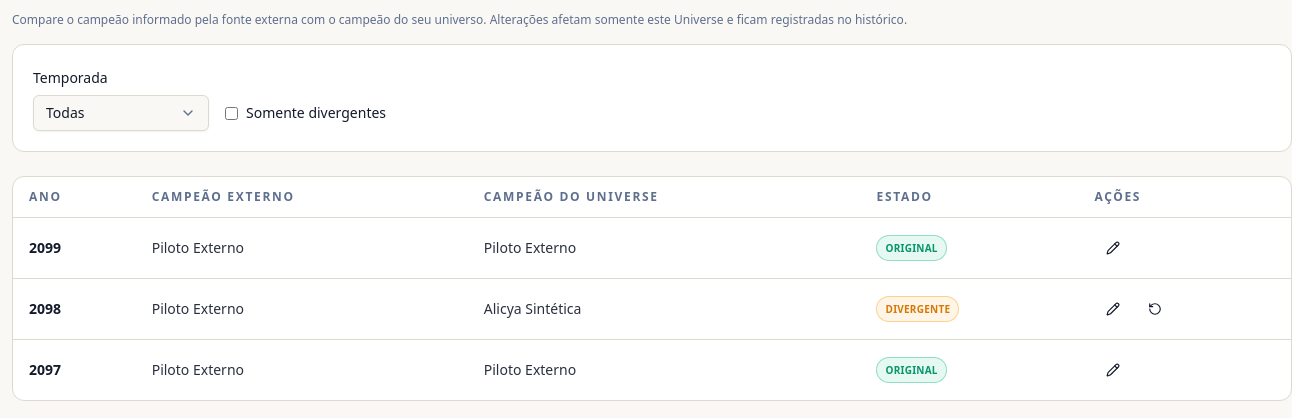
ChampionsPanel › 4) filtra por temporada e somente divergentes
The image size is (1292, 418).
Expected: the text "2099" is shown, [13,218,136,278]
Click the button named "Temporada" at (121, 113), box [33,95,209,131]
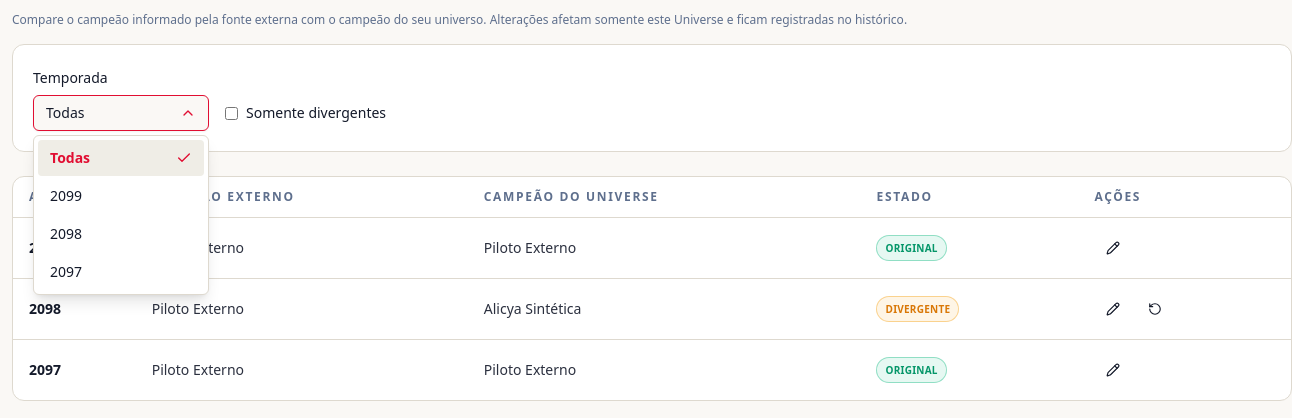
Click the option "2098" at (66, 234), box [50,224,82,243]
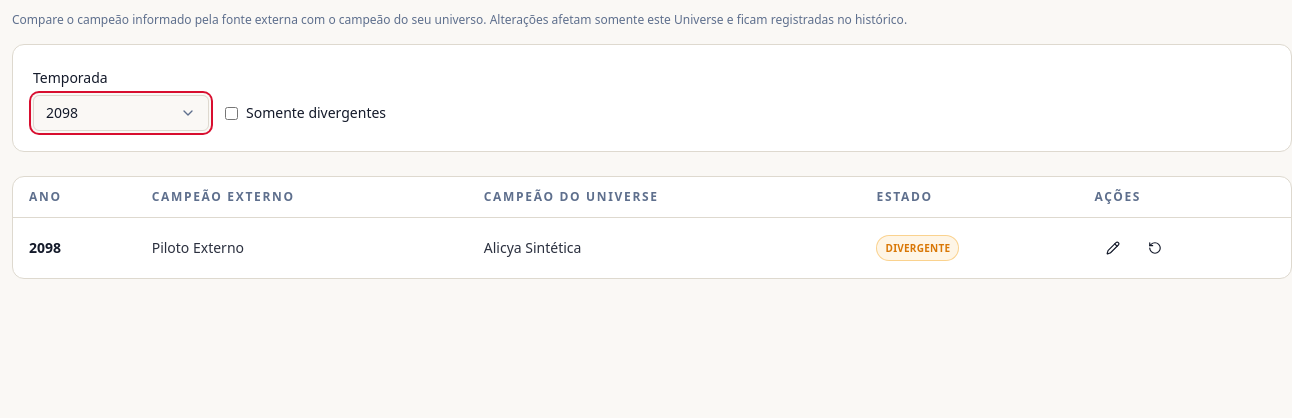
Now the option "2099" is gone
Now the text "2098" is shown, box [46,103,78,123]
Click the button named "Temporada" at (121, 113), box [33,95,209,131]
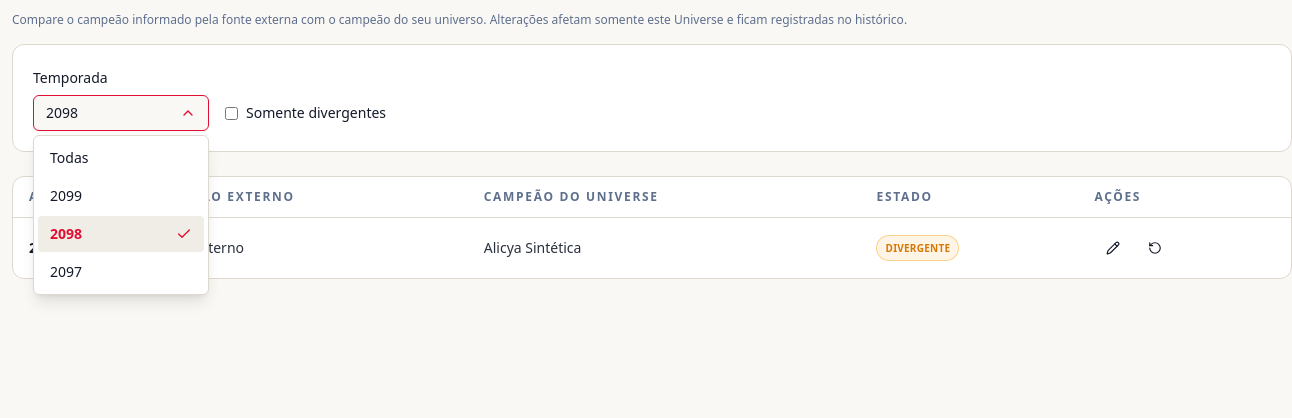
Click the option "Todas" at (69, 158), box [50,148,88,167]
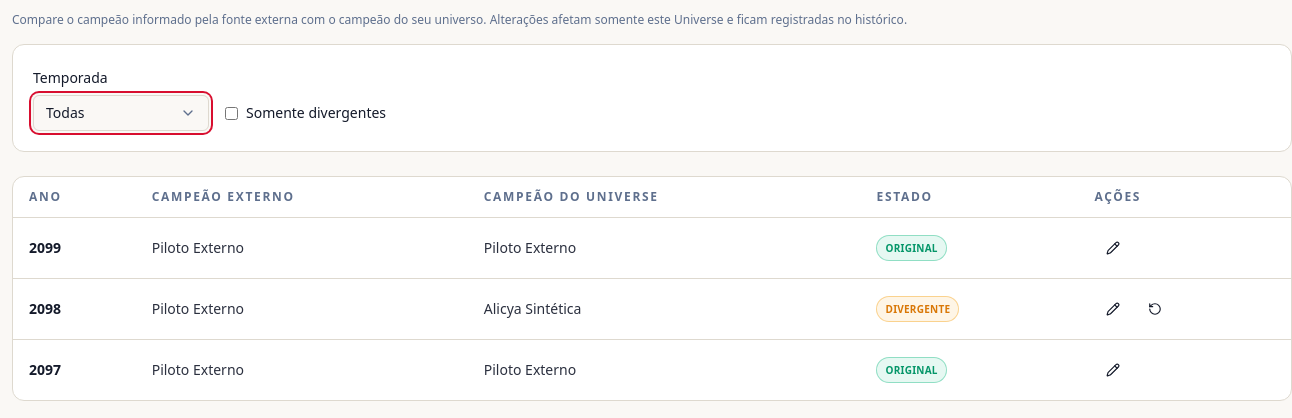
Click the checkbox labelled "Somente divergentes" at (232, 113), box [225,106,238,120]
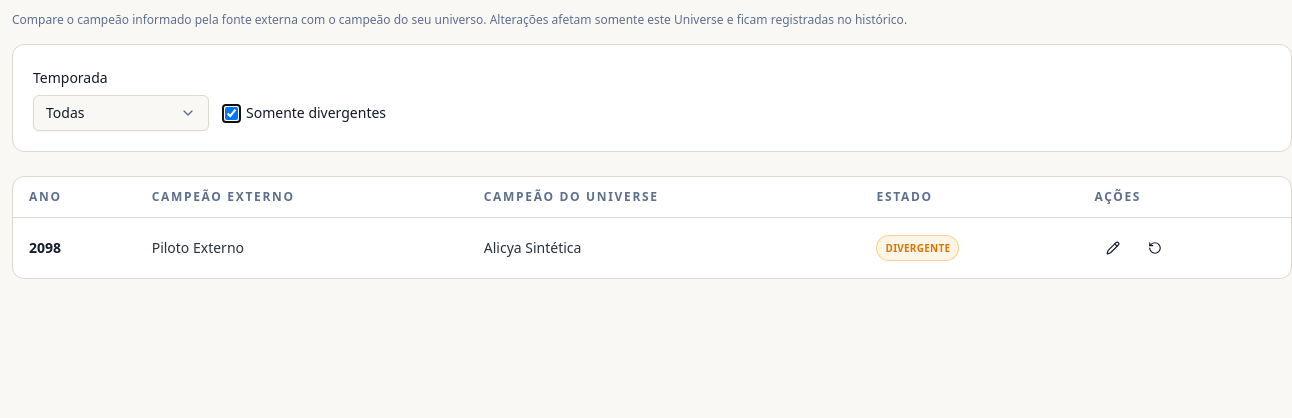
Expected: the text "2098" is shown, [13,218,136,278]
Now the text "2099" is gone
